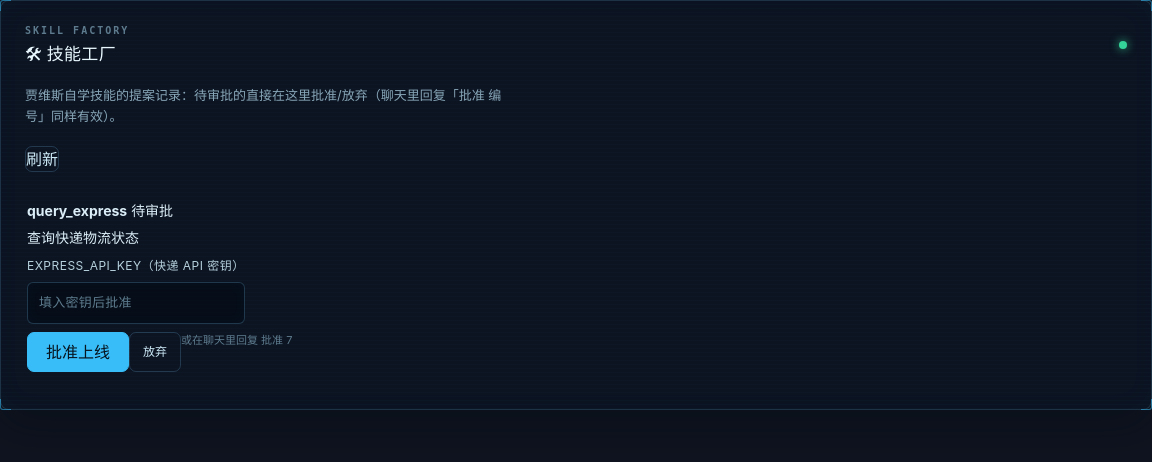
Test: SkillsSection 审批卡 › 填入密钥后批准：以草稿中的 keys 调 approve 并显示上线信息
The width and height of the screenshot is (1152, 462).
Expected: the text "query_express" is shown, [27,202,127,219]
Type "sk-test-1" into the password field with placeholder "填入密钥后批准" at coordinates (136, 303), box [27,282,245,324]
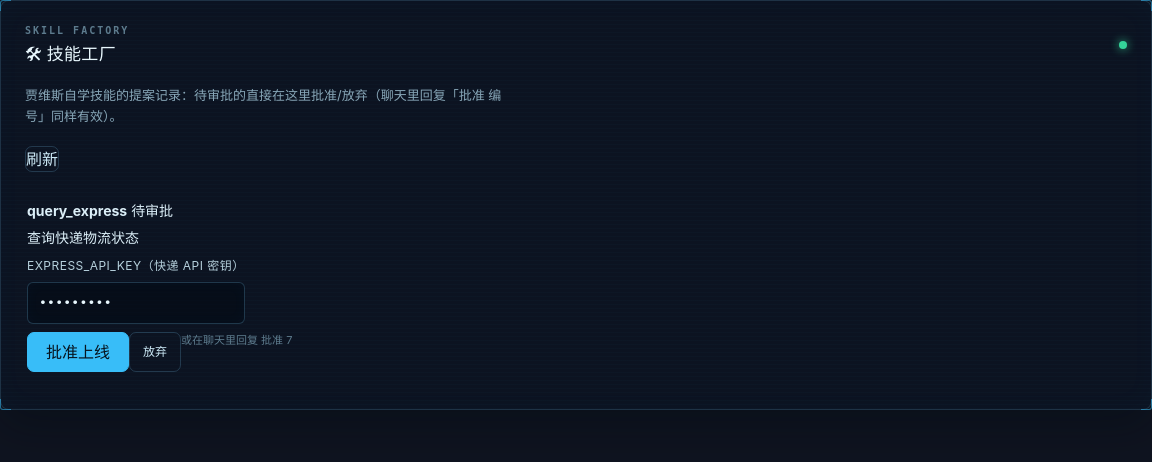
Click the button "批准上线" at coordinates (78, 352), box [27,332,129,372]
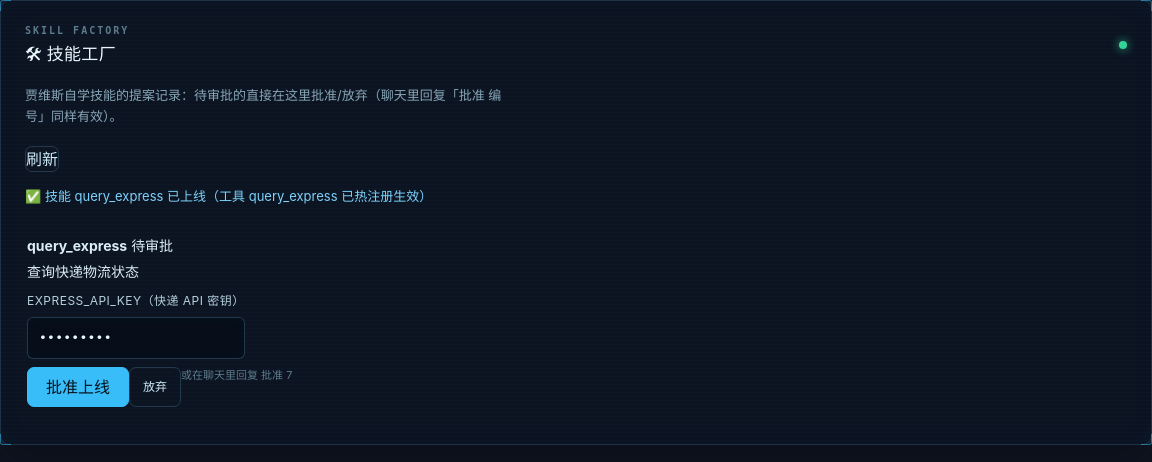
Expected: the text "✅ 技能 query_express 已上线（工具 query_express 已热注册生效）" is shown, [25,188,432,204]
